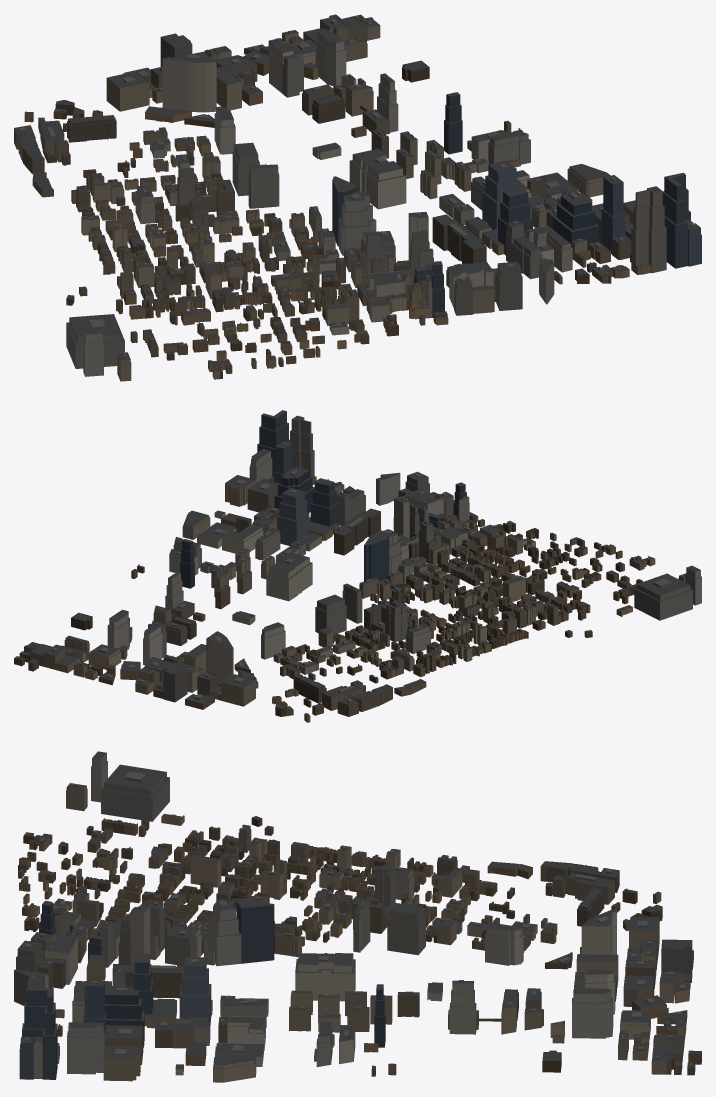
Rendered from manhattan_-02_-07.glb.
3 views of the same model, one above another, from view 1: azimuth 30°, elevation 25°; view 2: azimuth 150°, elevation 25°; view 3: azimuth 270°, elevation 25° (orthographic). The views are drawn at different scales.
Visible parts, largest first — view 1: BLD_midrise_-02_-07, BLD_lowrise_-02_-07, BLD_towers_-02_-07; view 2: BLD_midrise_-02_-07, BLD_lowrise_-02_-07, BLD_towers_-02_-07; view 3: BLD_midrise_-02_-07, BLD_lowrise_-02_-07, BLD_towers_-02_-07.
Boxes of the visible parts, x1=… form: BLD_midrise_-02_-07: x1=14, y1=16, x2=701, y2=381; BLD_lowrise_-02_-07: x1=24, y1=14, x2=650, y2=379; BLD_towers_-02_-07: x1=83, y1=28, x2=690, y2=376; BLD_midrise_-02_-07: x1=24, y1=472, x2=692, y2=716; BLD_lowrise_-02_-07: x1=14, y1=476, x2=655, y2=722; BLD_towers_-02_-07: x1=107, y1=410, x2=701, y2=680; BLD_midrise_-02_-07: x1=14, y1=764, x2=692, y2=1082; BLD_lowrise_-02_-07: x1=18, y1=813, x2=701, y2=1076; BLD_towers_-02_-07: x1=16, y1=751, x2=616, y2=1079.
Size of the model in its own units: 1406 by 184 by 1413.
